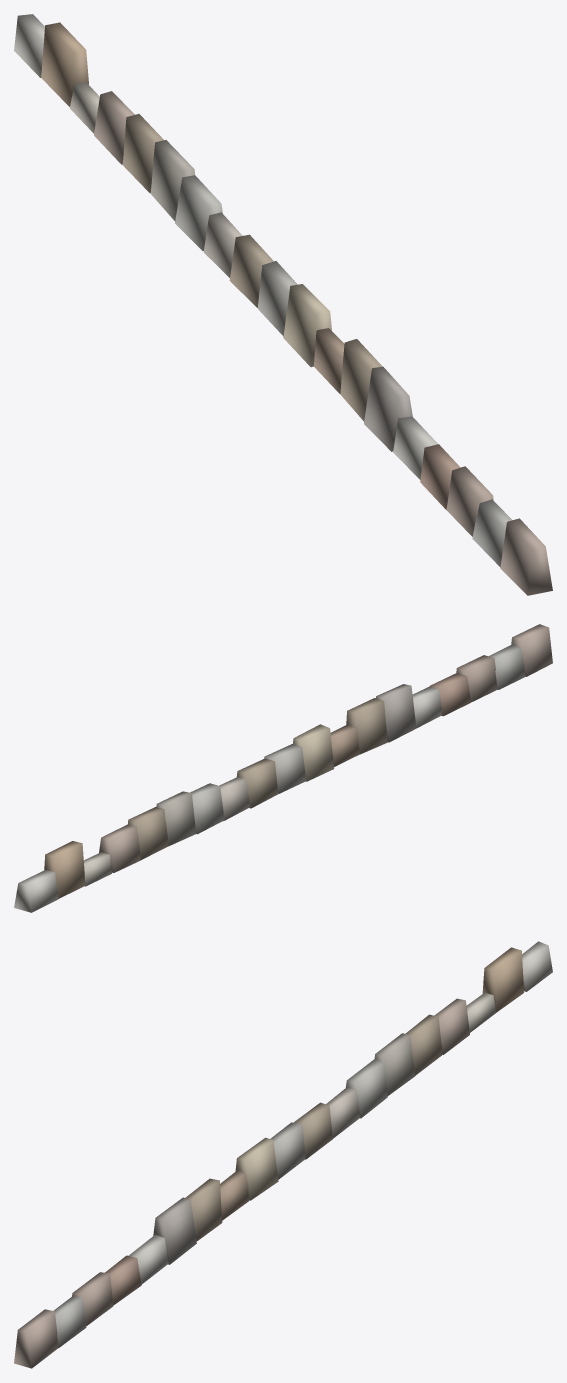
The model's file is farm_-23_-21_far.glb.
The picture shows the model from 3 angles, top to bottom: view 1: azimuth 30°, elevation 25°; view 2: azimuth 150°, elevation 25°; view 3: azimuth 330°, elevation 25°; orthographic projection. The views are drawn at different scales.
Parts seen in each view (by area): view 1: geometry_0; view 2: geometry_0; view 3: geometry_0.
Part boxes in pixels (x1,y1,x2,y2): geometry_0: (14, 14, 552, 595); geometry_0: (14, 624, 552, 912); geometry_0: (14, 941, 552, 1368).
Size of the model in its own units: 2.95 by 3.99 by 30.12.
